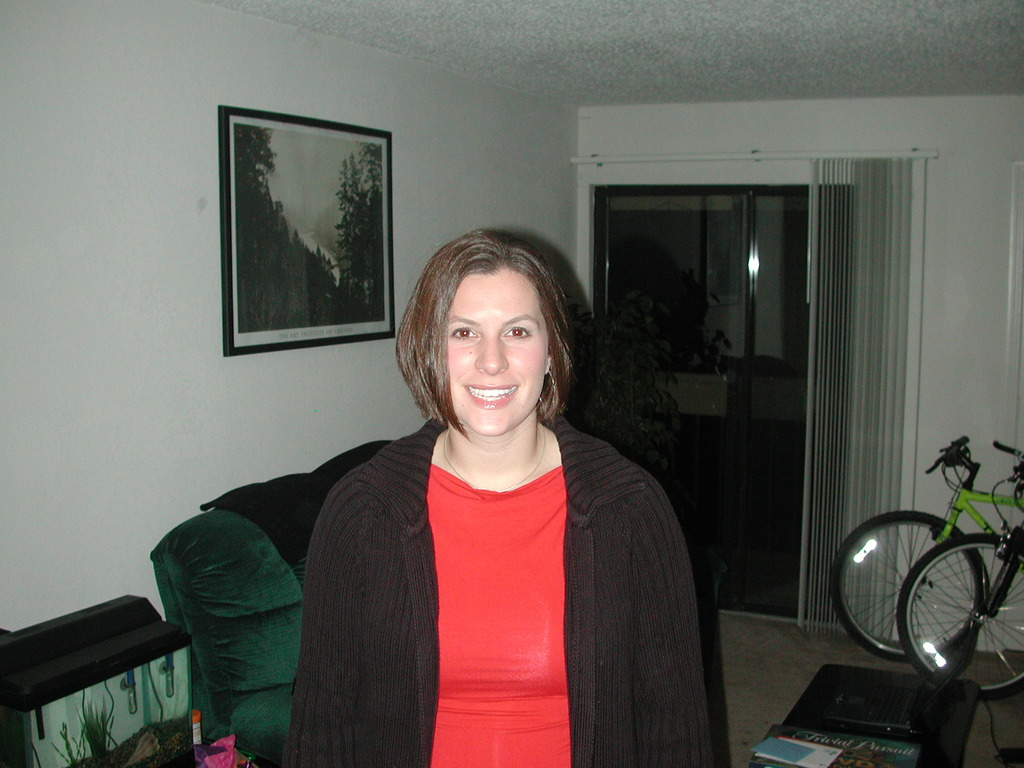Human-face: (445, 266, 548, 436)
